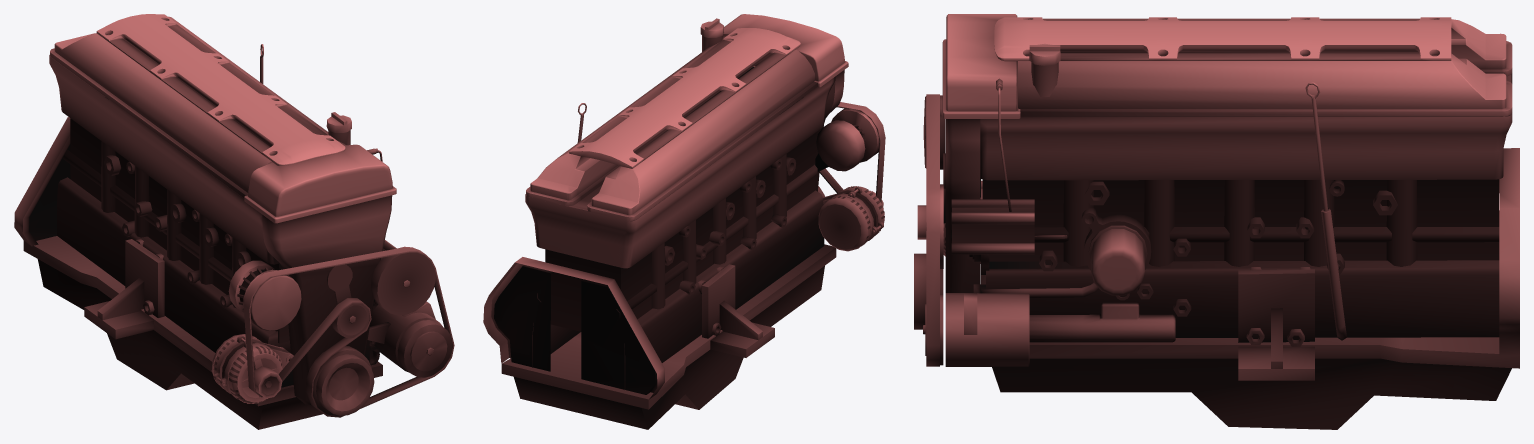
Rendered from JZ_Block.fbx.
The picture shows the model from 3 angles, left to right: view 1: azimuth 30°, elevation 25°; view 2: azimuth 150°, elevation 25°; view 3: azimuth 270°, elevation 25°; orthographic projection. The views are drawn at different scales.
Visible parts, largest first — view 1: JZ_Block; view 2: JZ_Block; view 3: JZ_Block.
Part boxes in pixels (x1,y1,x2,y2): JZ_Block: [14, 14, 454, 429]; JZ_Block: [483, 14, 885, 429]; JZ_Block: [914, 14, 1519, 429].
Size of the model in its own units: 45.46 by 60.5 by 88.53.
